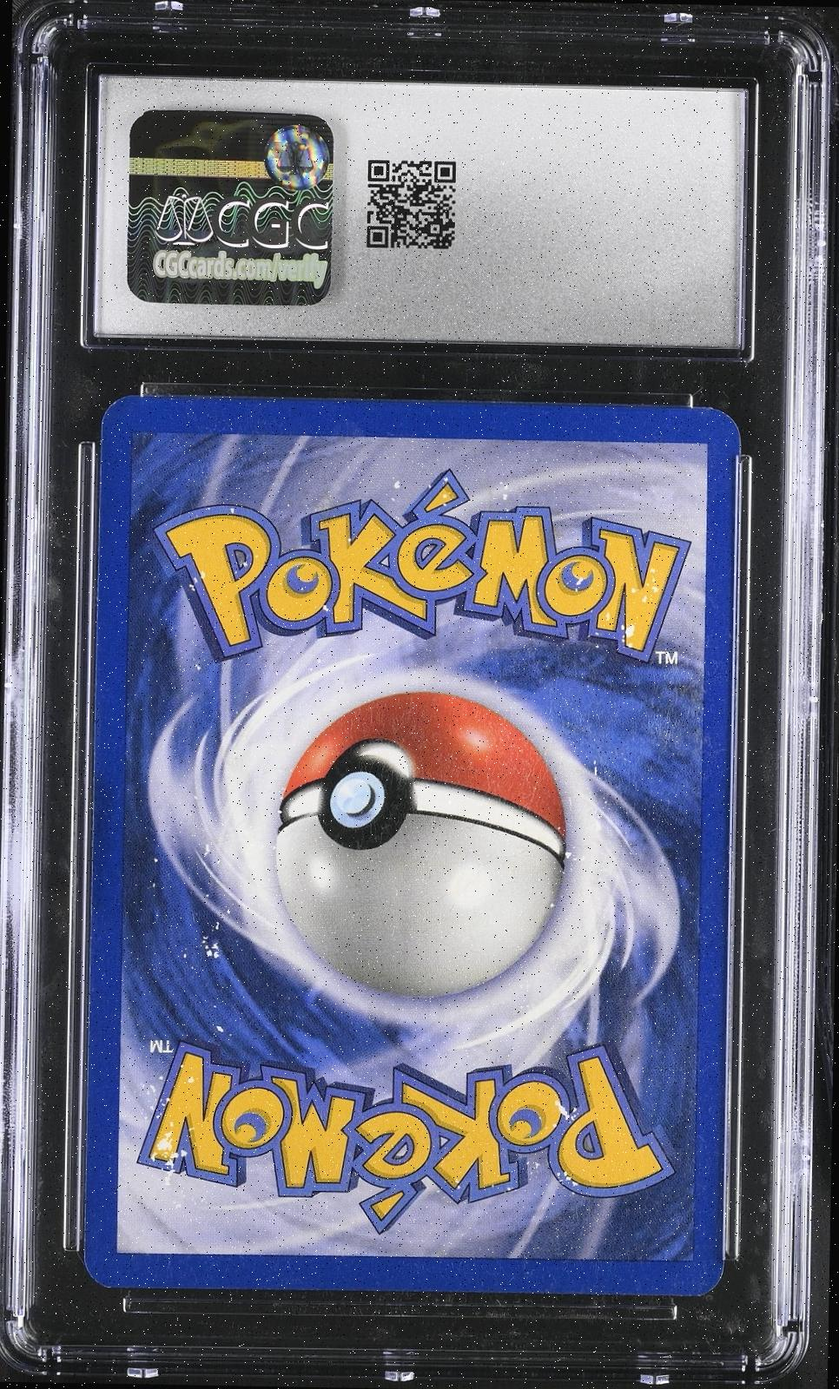card-2UtV: (83, 395, 742, 1297)
